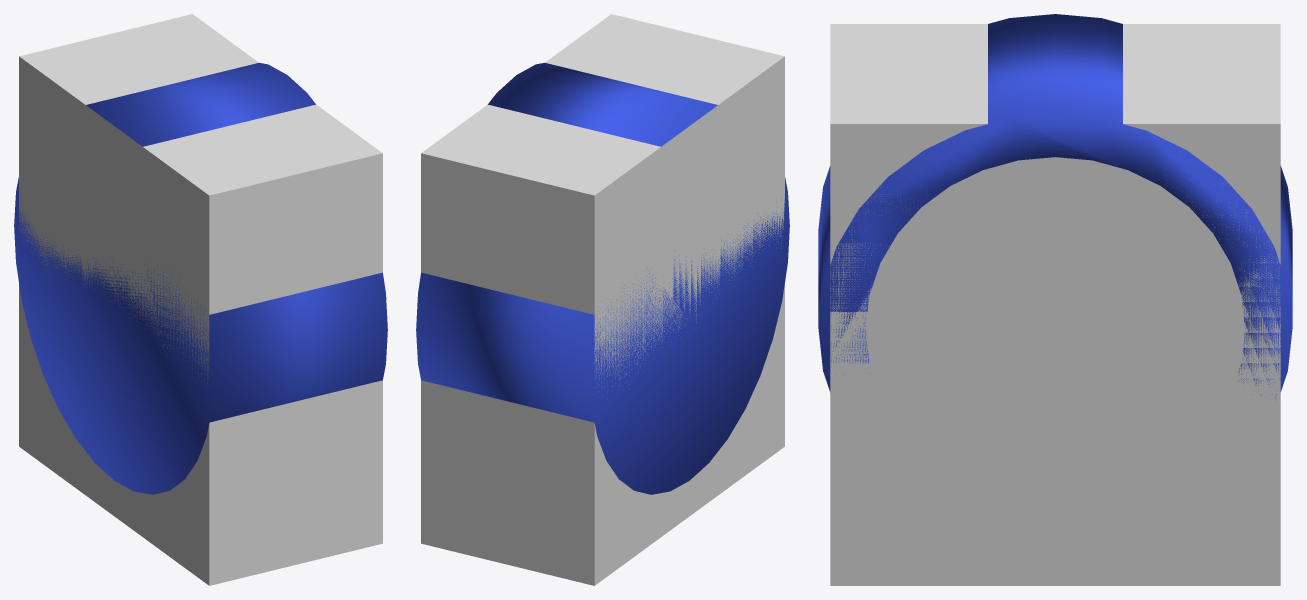
File: body.gltf
3 renders of one model, left to right at view 1: azimuth 30°, elevation 25°; view 2: azimuth 150°, elevation 25°; view 3: azimuth 270°, elevation 25°, orthographic. The views are drawn at different scales.
Visible parts, largest first — view 1: COL, 円柱; view 2: COL, 円柱; view 3: COL, 円柱.
Boxes of the visible parts, box(x1,y1,x2,y2) form: COL: box(19, 14, 382, 585); 円柱: box(14, 62, 387, 494); COL: box(421, 14, 784, 585); 円柱: box(416, 62, 789, 494); COL: box(830, 24, 1280, 585); 円柱: box(818, 14, 1292, 399).
Size of the model in its own units: 4 by 8.8 by 8.
